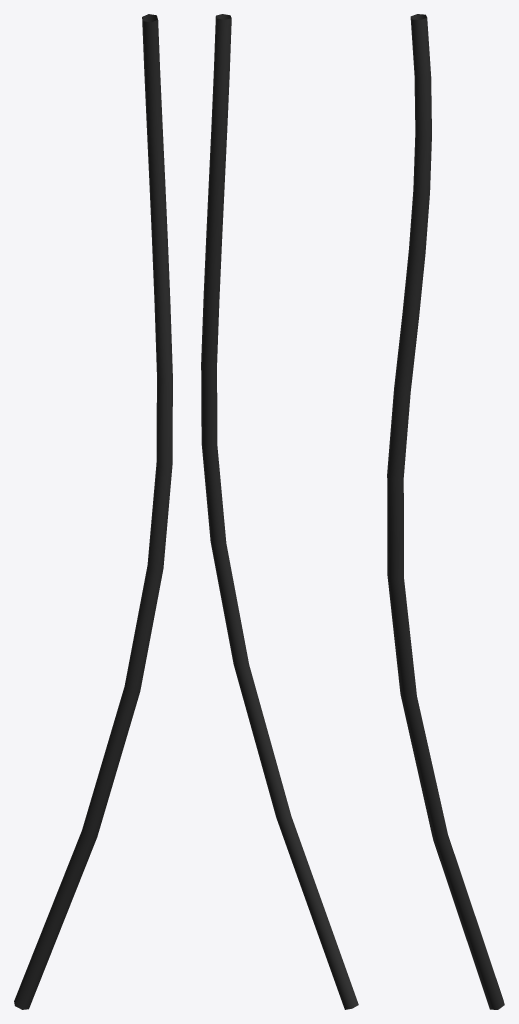
File: SM_Stage_Final_Wire_ceiling_03.fbx
3 views of the same model, side by side, from view 1: azimuth 30°, elevation 25°; view 2: azimuth 210°, elevation 25°; view 3: azimuth 270°, elevation 25° (orthographic). The views are drawn at different scales.
Visible parts, largest first — view 1: SM_Stage_Final_Wire_ceiling_03; view 2: SM_Stage_Final_Wire_ceiling_03; view 3: SM_Stage_Final_Wire_ceiling_03.
Part boxes in pixels (x1=…): SM_Stage_Final_Wire_ceiling_03: x1=14, y1=14, x2=172, y2=1009; SM_Stage_Final_Wire_ceiling_03: x1=201, y1=14, x2=358, y2=1009; SM_Stage_Final_Wire_ceiling_03: x1=387, y1=14, x2=504, y2=1009.
Size of the model in its own units: 34.63 by 287 by 29.49.
Materials: 1 (1 with a texture image).
